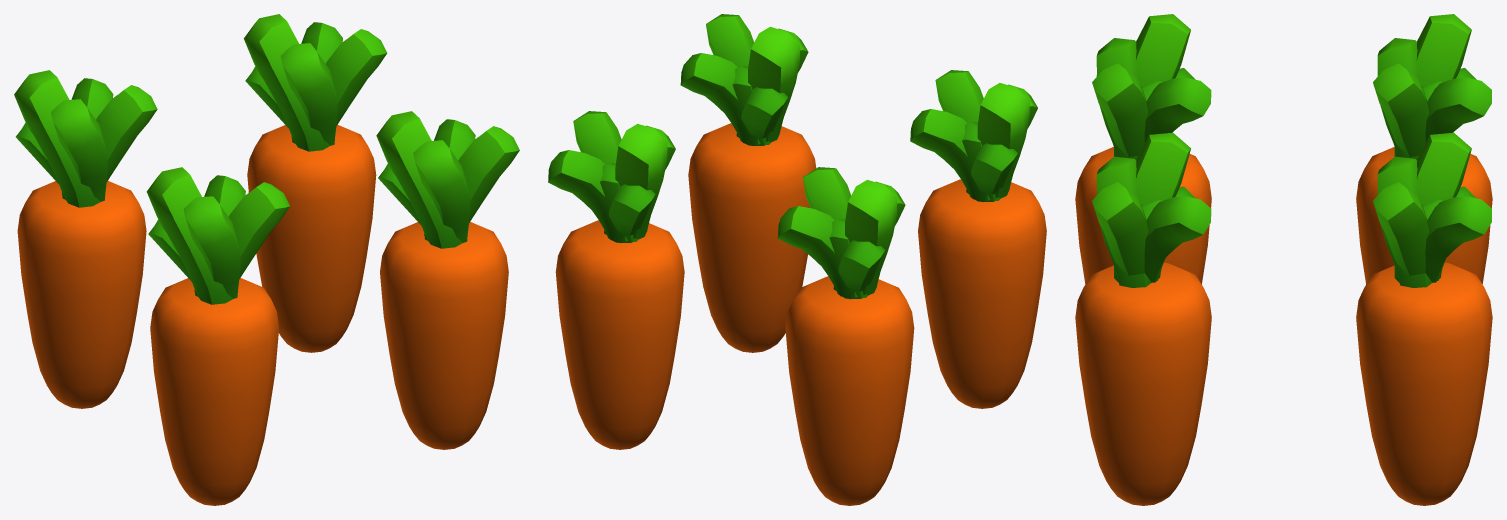
The model's file is Farm_Crop_Carrot_Step_03.glb.
The picture shows the model from 3 angles, left to right: view 1: azimuth 30°, elevation 25°; view 2: azimuth 150°, elevation 25°; view 3: azimuth 270°, elevation 25°; orthographic projection. The views are drawn at different scales.
Visible parts, largest first — view 1: Farm_Crop_Carrot_Step_03; view 2: Farm_Crop_Carrot_Step_03; view 3: Farm_Crop_Carrot_Step_03.
Part boxes in pixels (x1,y1,x2,y2): Farm_Crop_Carrot_Step_03: [14, 14, 519, 505]; Farm_Crop_Carrot_Step_03: [548, 14, 1046, 505]; Farm_Crop_Carrot_Step_03: [1075, 14, 1492, 505].
Size of the model in its own units: 1.5 by 1.37 by 1.49.
1 material, 1 textured.
